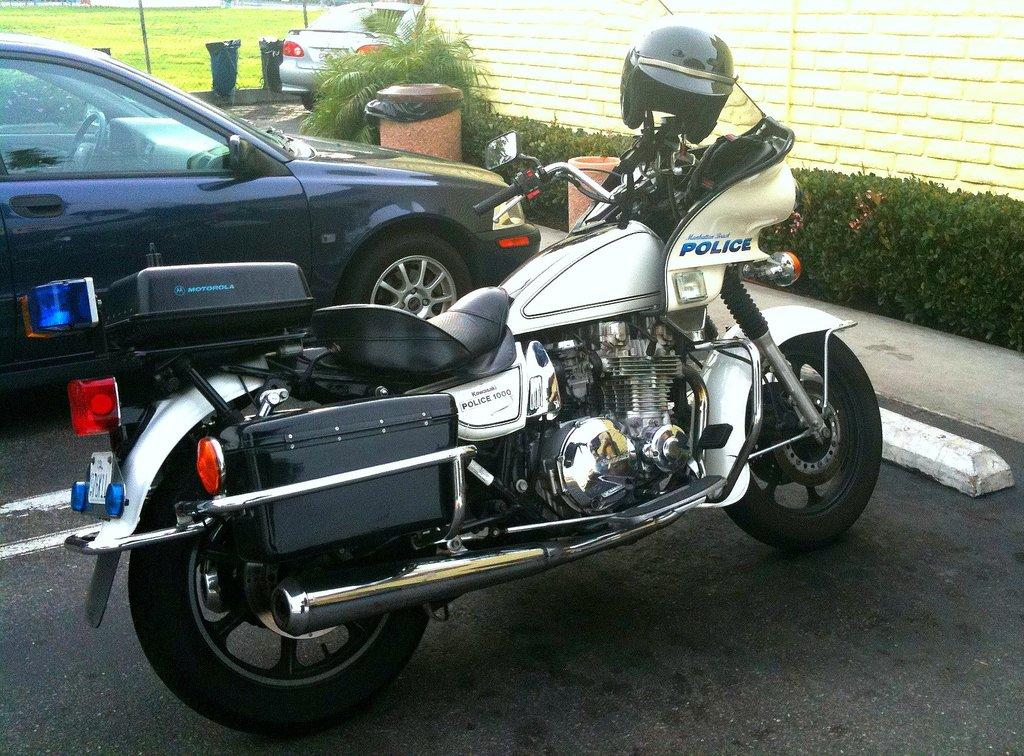helmet: (619, 24, 735, 145)
